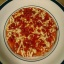pizza: (5, 6, 57, 60)
